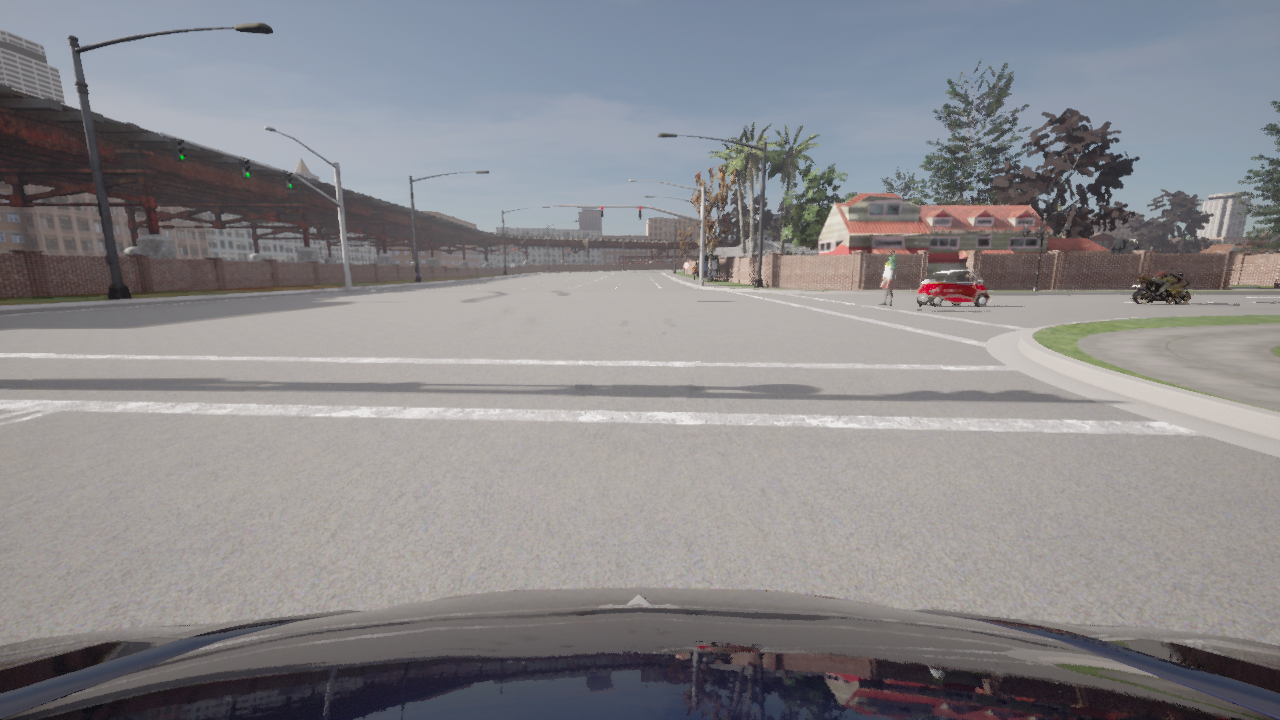cyclist: (0, 588, 1279, 719), (915, 269, 990, 307), (1130, 273, 1194, 304)
pedestrian: (877, 249, 897, 306), (691, 264, 698, 281)
